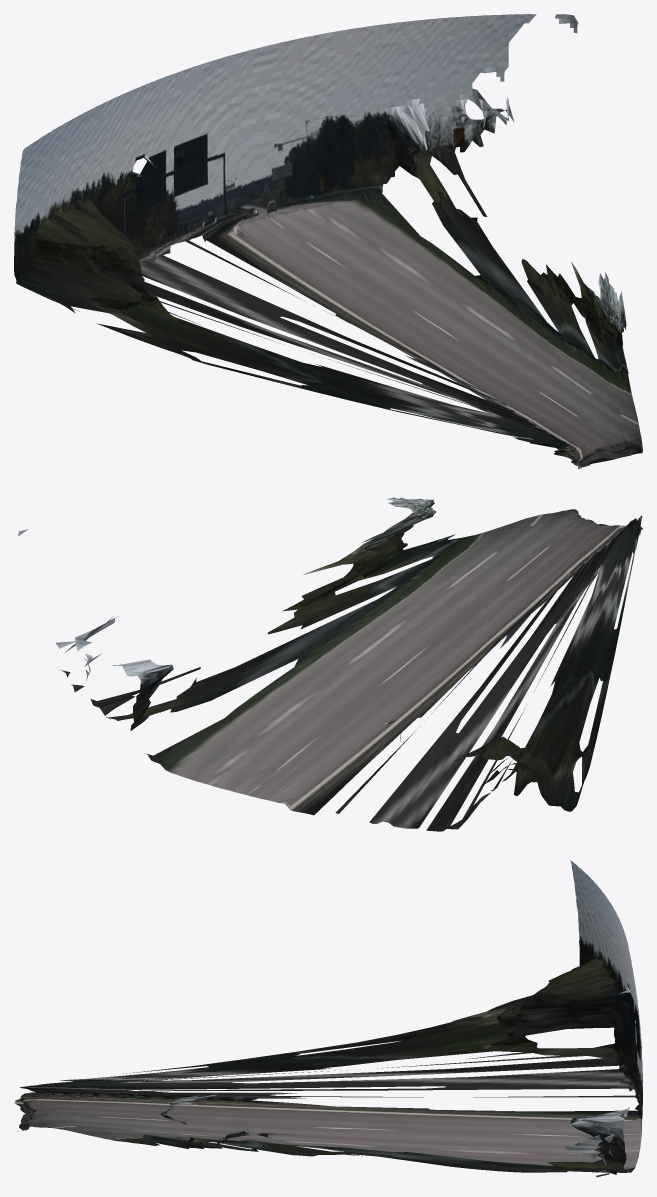
3 views of the same model, one above another, from view 1: azimuth 30°, elevation 25°; view 2: azimuth 150°, elevation 25°; view 3: azimuth 270°, elevation 25° (orthographic). The views are drawn at different scales.
Parts seen in each view (by area): view 1: defaultobject; view 2: defaultobject; view 3: defaultobject.
Part boxes in pixels (x1=…): defaultobject: x1=14, y1=14, x2=642, y2=468; defaultobject: x1=18, y1=497, x2=642, y2=831; defaultobject: x1=14, y1=860, x2=642, y2=1177.
Bounding box in the file's own units: 40.89 × 12.85 × 44.59.
Materials: 1 (1 with a texture image).
